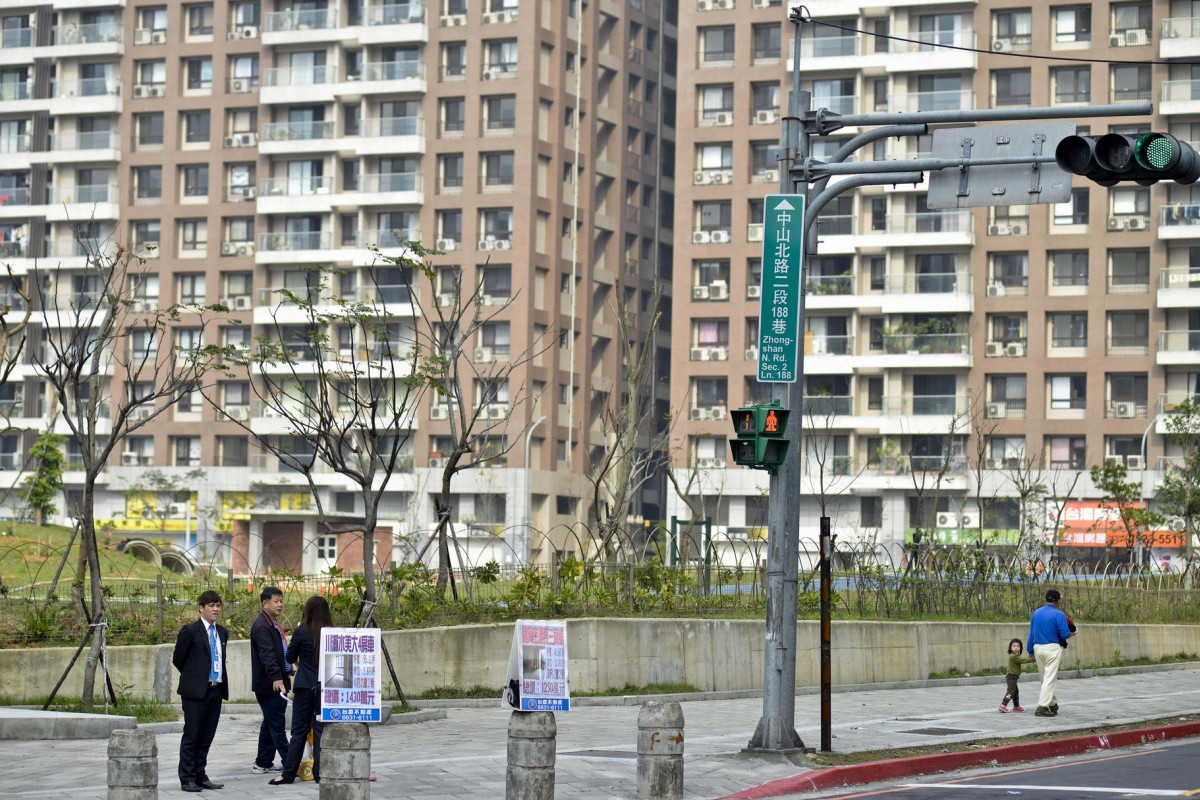Person: (174, 590, 231, 791), (247, 587, 294, 772), (288, 594, 325, 782), (1028, 589, 1069, 716), (999, 634, 1030, 717)
